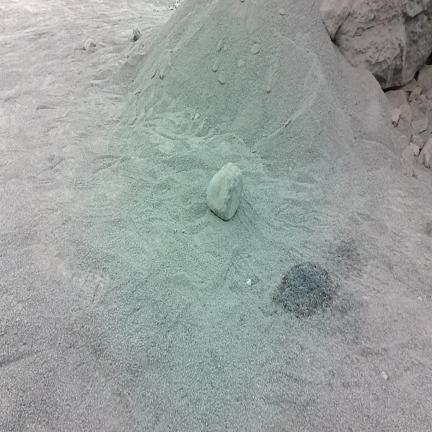Rock: (321, 0, 431, 88), (207, 163, 243, 220), (321, 0, 354, 39), (386, 89, 408, 108), (401, 146, 414, 176), (418, 65, 431, 92), (419, 138, 431, 167), (411, 116, 428, 134), (400, 104, 412, 124), (396, 135, 409, 153), (402, 78, 418, 92), (409, 86, 421, 101), (412, 135, 424, 149), (392, 109, 400, 126), (85, 38, 96, 50), (133, 26, 141, 41), (410, 143, 419, 156), (251, 43, 260, 54), (218, 72, 226, 84), (380, 371, 388, 381), (217, 39, 223, 51), (419, 94, 427, 103), (212, 60, 218, 72), (425, 88, 431, 99), (238, 60, 244, 67), (279, 8, 285, 15)
